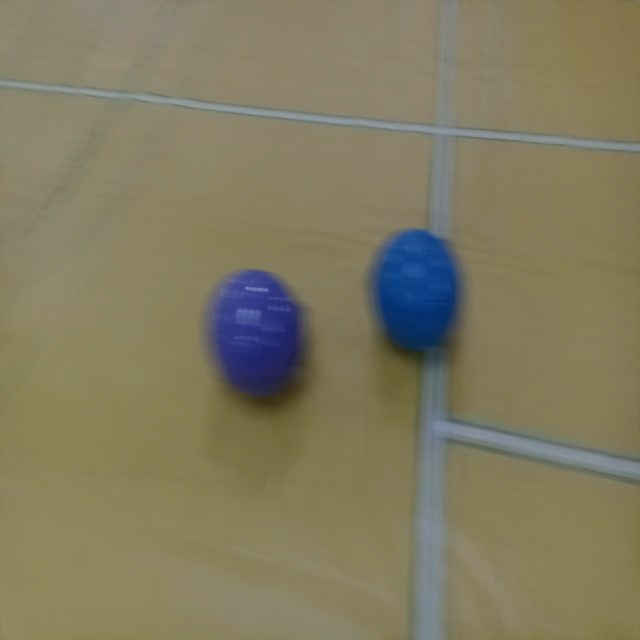blue_ball: (371, 222, 467, 368)
purple_ball: (208, 262, 306, 402)
